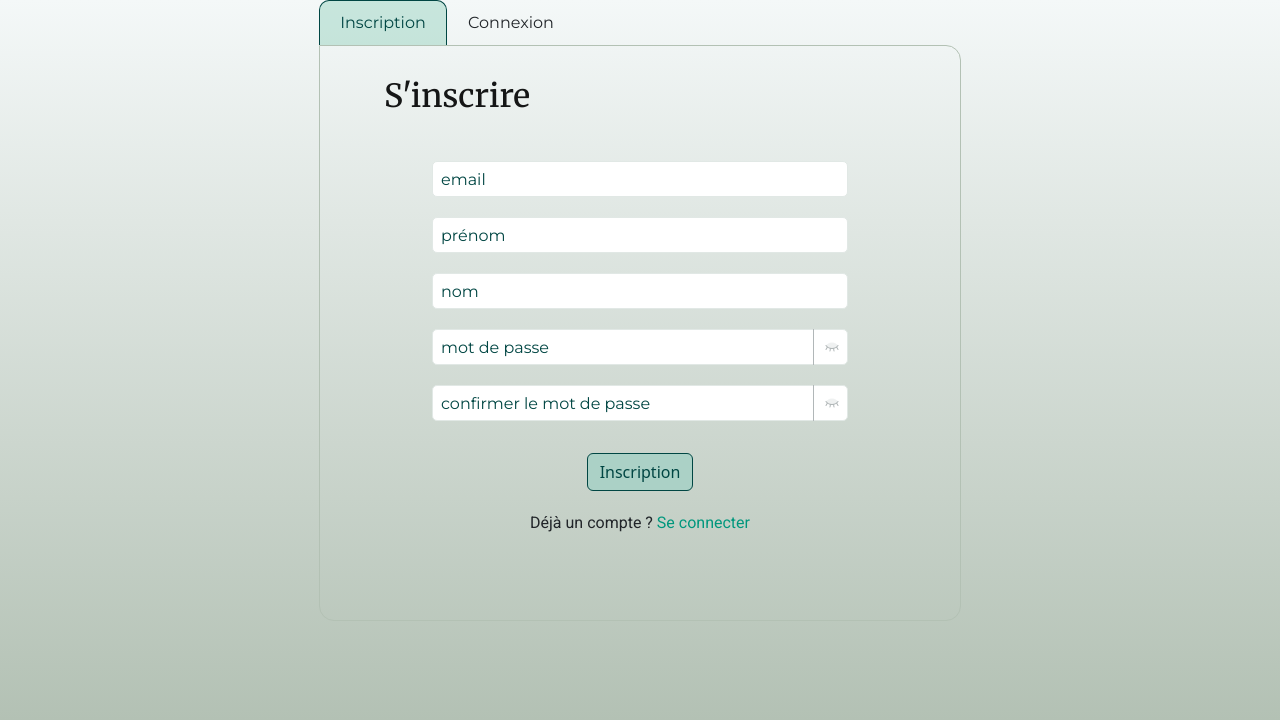
Test: Sign › Should display login component when user click on login tab
Click the list item with test id "loginTab" at coordinates (511, 22), box [468,13,554,32]
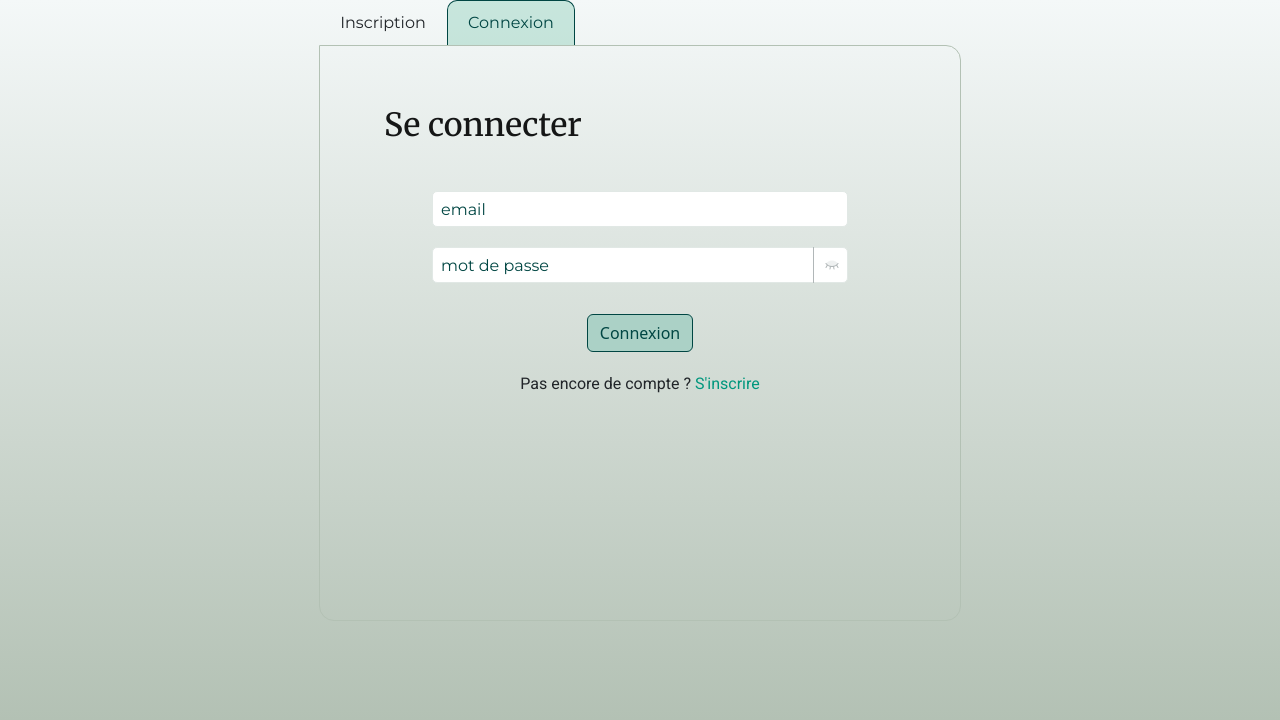
expect the element with test id "loginComponent" is shown: met, box [319,45,961,621]
